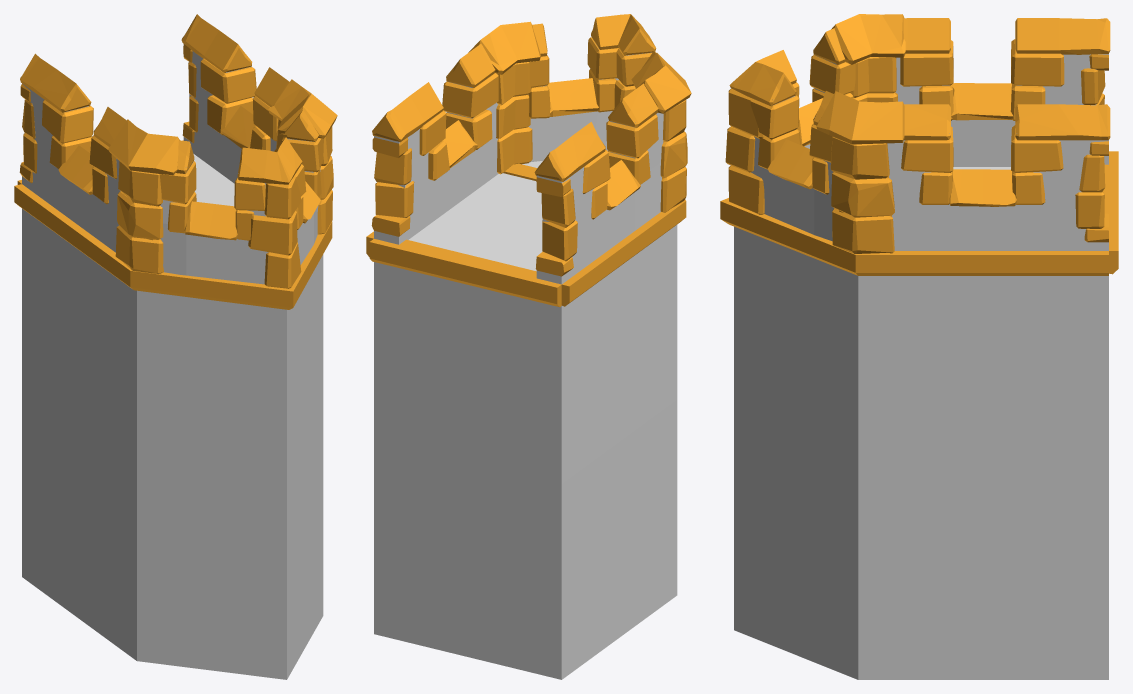
Rendered from SM_Rampart_3x6m_Battlement_Guard_Long_A_Fantasy_Base.fbx.
3 views of the same model, side by side, from view 1: azimuth 30°, elevation 25°; view 2: azimuth 150°, elevation 25°; view 3: azimuth 270°, elevation 25° (orthographic). The views are drawn at different scales.
Parts seen in each view (by area): view 1: SM_Rampart_3x6m_Battlement_Guard_Long_A_Fantasy_Base; view 2: SM_Rampart_3x6m_Battlement_Guard_Long_A_Fantasy_Base; view 3: SM_Rampart_3x6m_Battlement_Guard_Long_A_Fantasy_Base.
Part boxes in pixels (x1,y1,x2,y2): SM_Rampart_3x6m_Battlement_Guard_Long_A_Fantasy_Base: (14, 14, 337, 679); SM_Rampart_3x6m_Battlement_Guard_Long_A_Fantasy_Base: (366, 14, 691, 679); SM_Rampart_3x6m_Battlement_Guard_Long_A_Fantasy_Base: (720, 14, 1118, 679).
Bounding box in the file's own units: 3.37 × 8.06 × 5.08.
